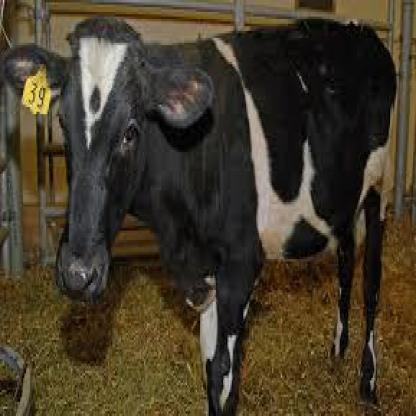cow: (3, 16, 396, 416)
